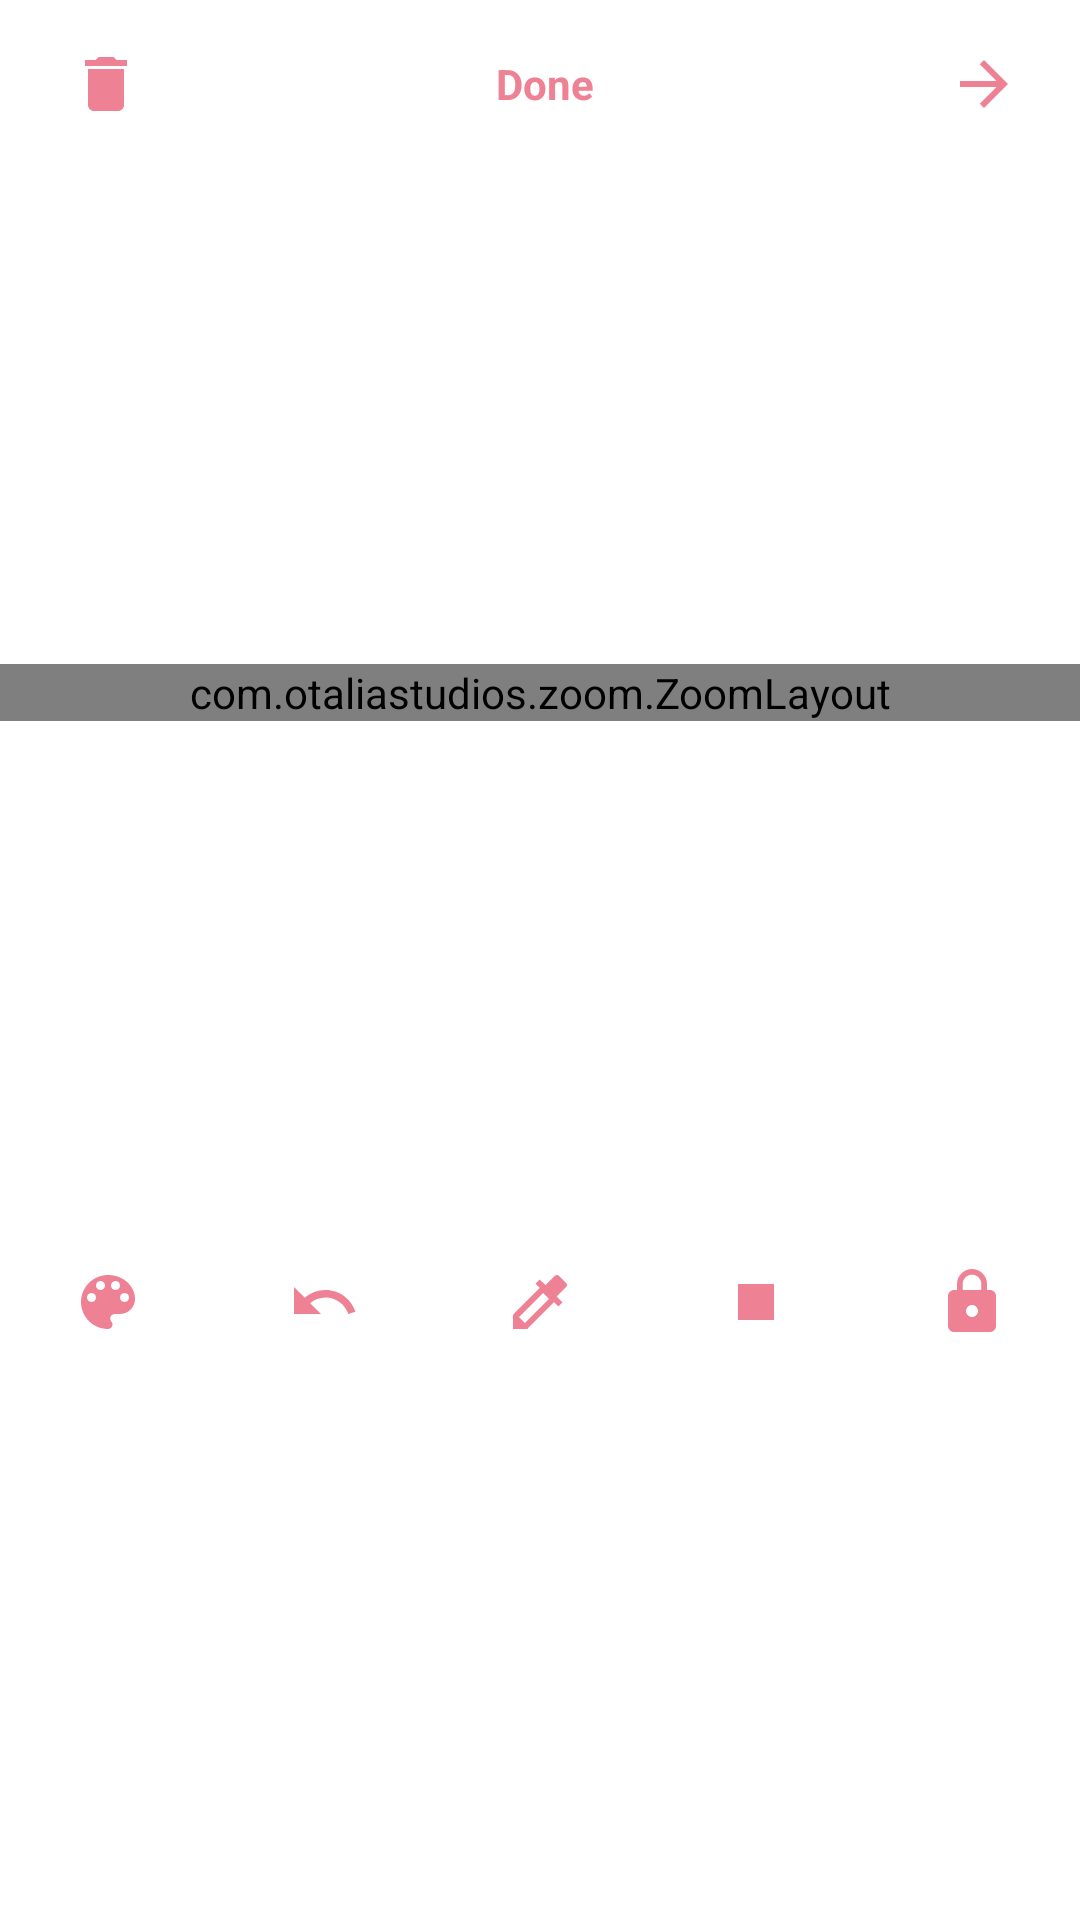

Named icons in this screenshot (1080w x 1920h) and their centers, (x=x, y=y):
arrow forward: (x=984, y=84)
colorize: (x=540, y=1302)
lock: (x=972, y=1300)
palette: (x=108, y=1302)
undo: (x=325, y=1300)
